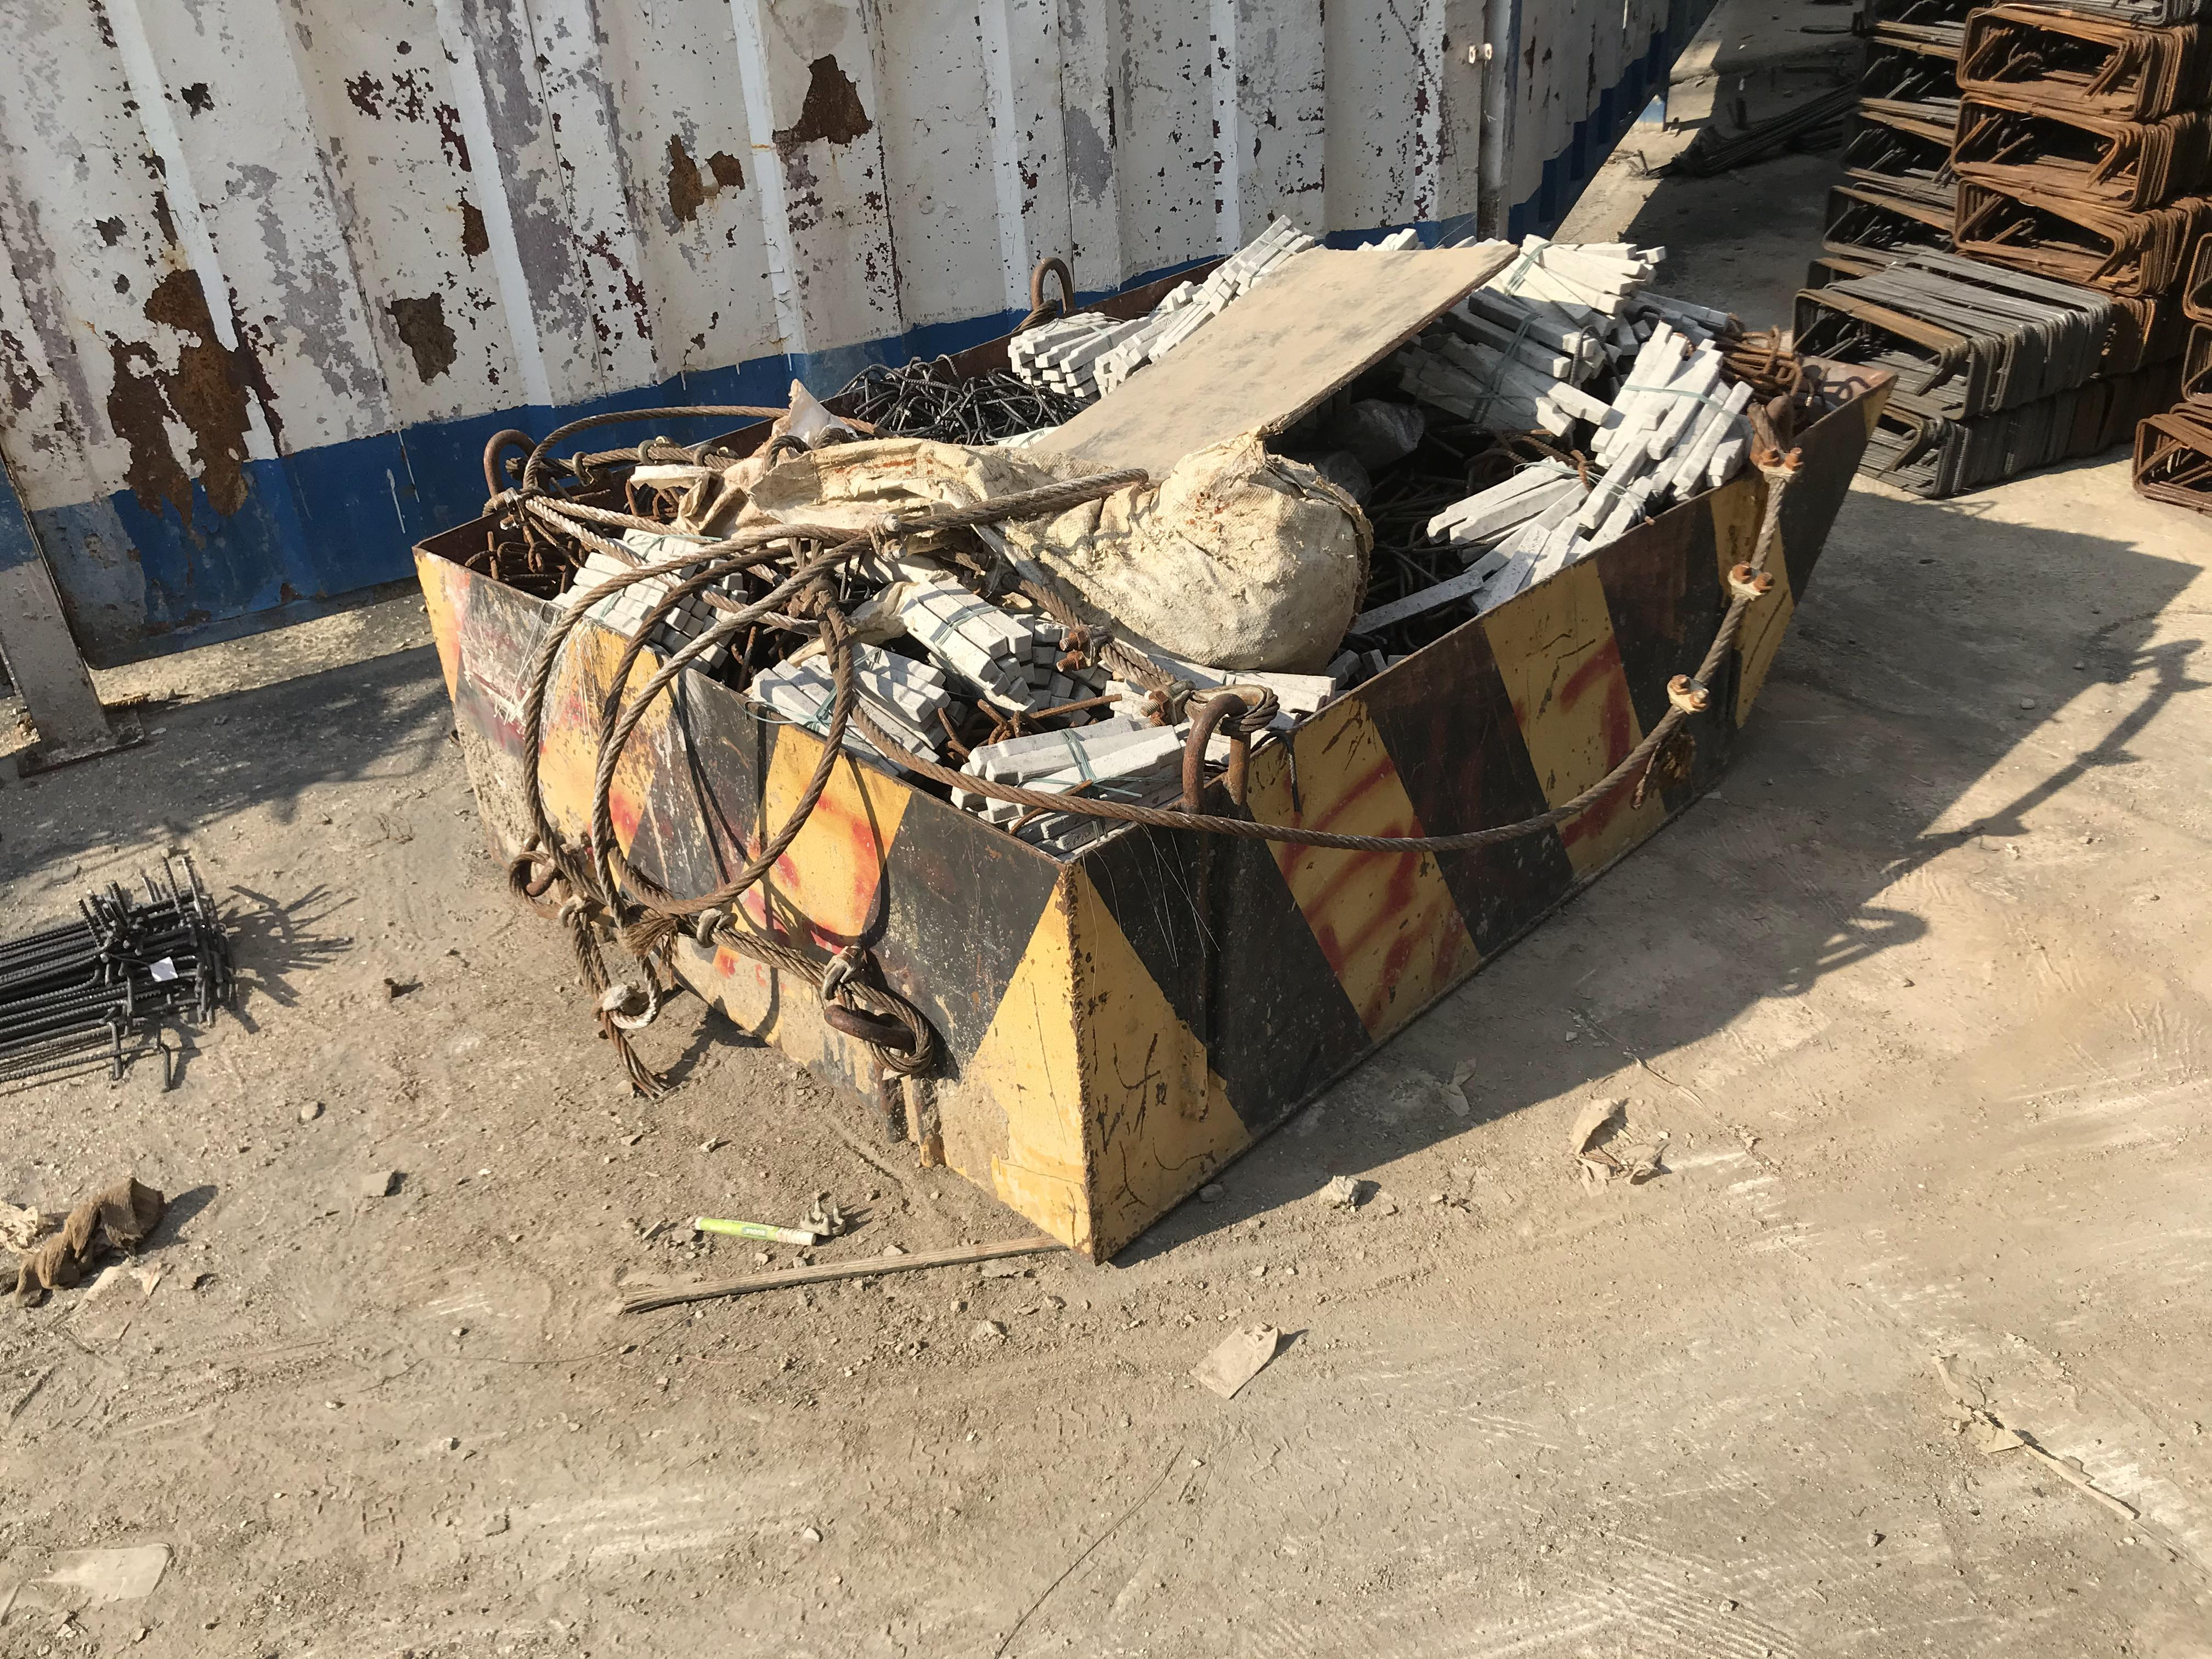hopper: (406, 214, 1893, 1270)
